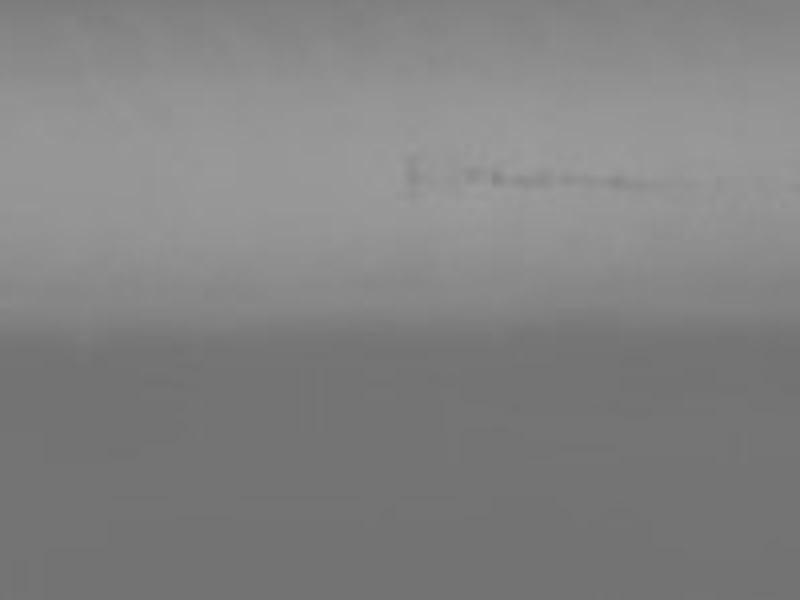defect: (515, 172, 556, 189), (607, 169, 630, 189), (463, 163, 482, 185), (490, 168, 504, 190)
